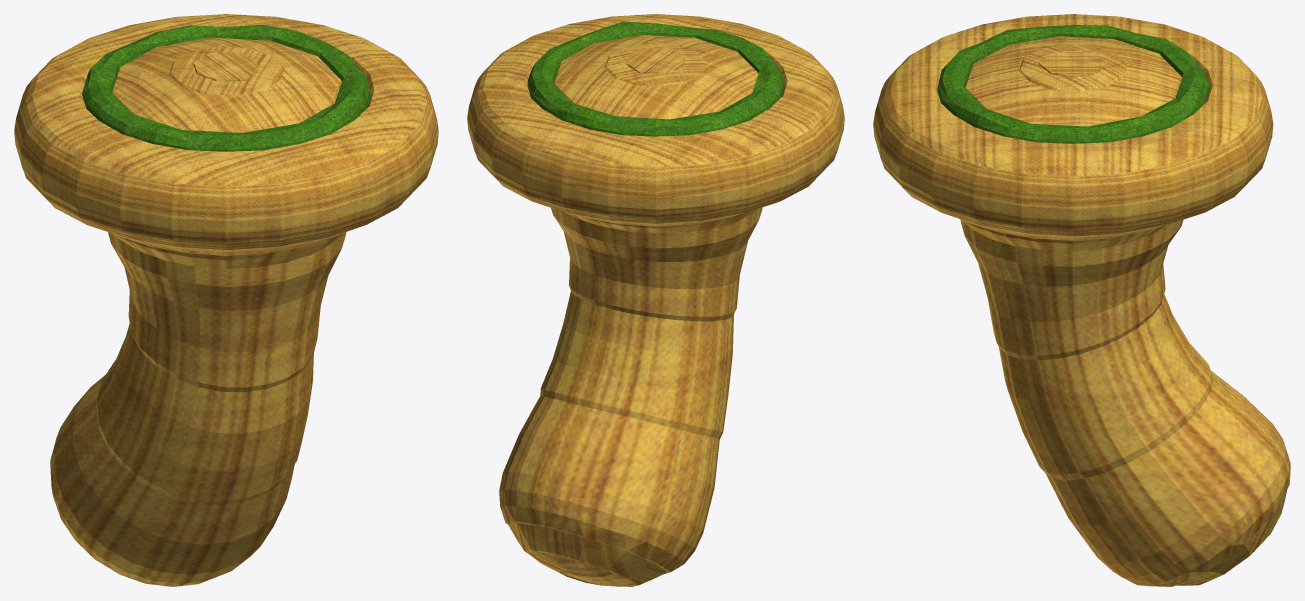
File: KinokoTwinsPlanetA.dae
The picture shows the model from 3 angles, left to right: view 1: azimuth 30°, elevation 25°; view 2: azimuth 150°, elevation 25°; view 3: azimuth 270°, elevation 25°; orthographic projection. The views are drawn at different scales.
Parts seen in each view (by area): view 1: m0, m1; view 2: m0, m1; view 3: m0, m1.
Part boxes in pixels (<box>): m0: <box>14,14,438,586</box>; m1: <box>82,25,370,151</box>; m0: <box>467,14,844,586</box>; m1: <box>527,21,784,136</box>; m0: <box>873,14,1290,586</box>; m1: <box>937,25,1209,143</box>.
Bounding box in the file's own units: 1632 × 2298 × 1693.
Materials: 2 (2 with a texture image).
